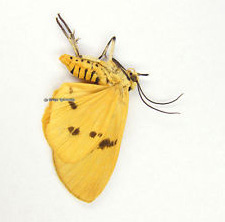Agape chloropyga: (41, 12, 186, 203)
moth: (41, 12, 186, 203)
